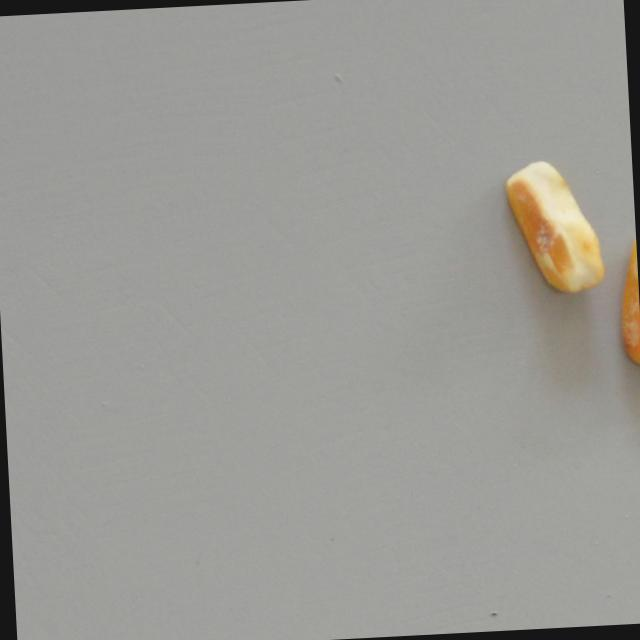dañado: (498, 153, 610, 304), (610, 231, 640, 382)
